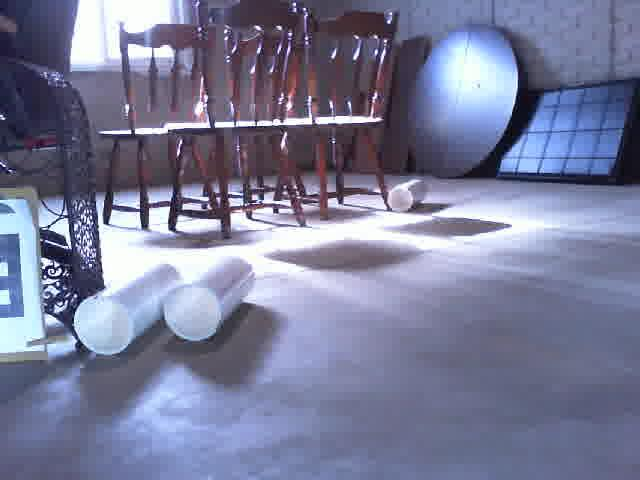coral: (72, 257, 185, 358), (163, 254, 257, 347), (387, 177, 427, 215)
